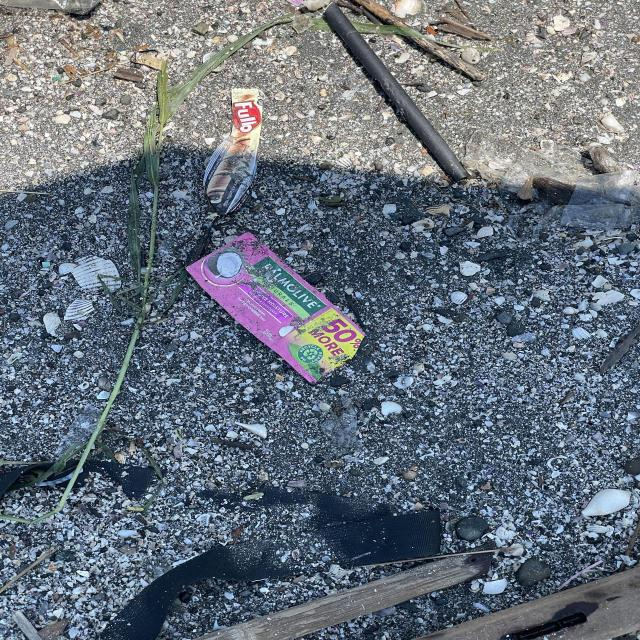plastic_waste: (186, 231, 367, 385), (202, 87, 263, 215)
